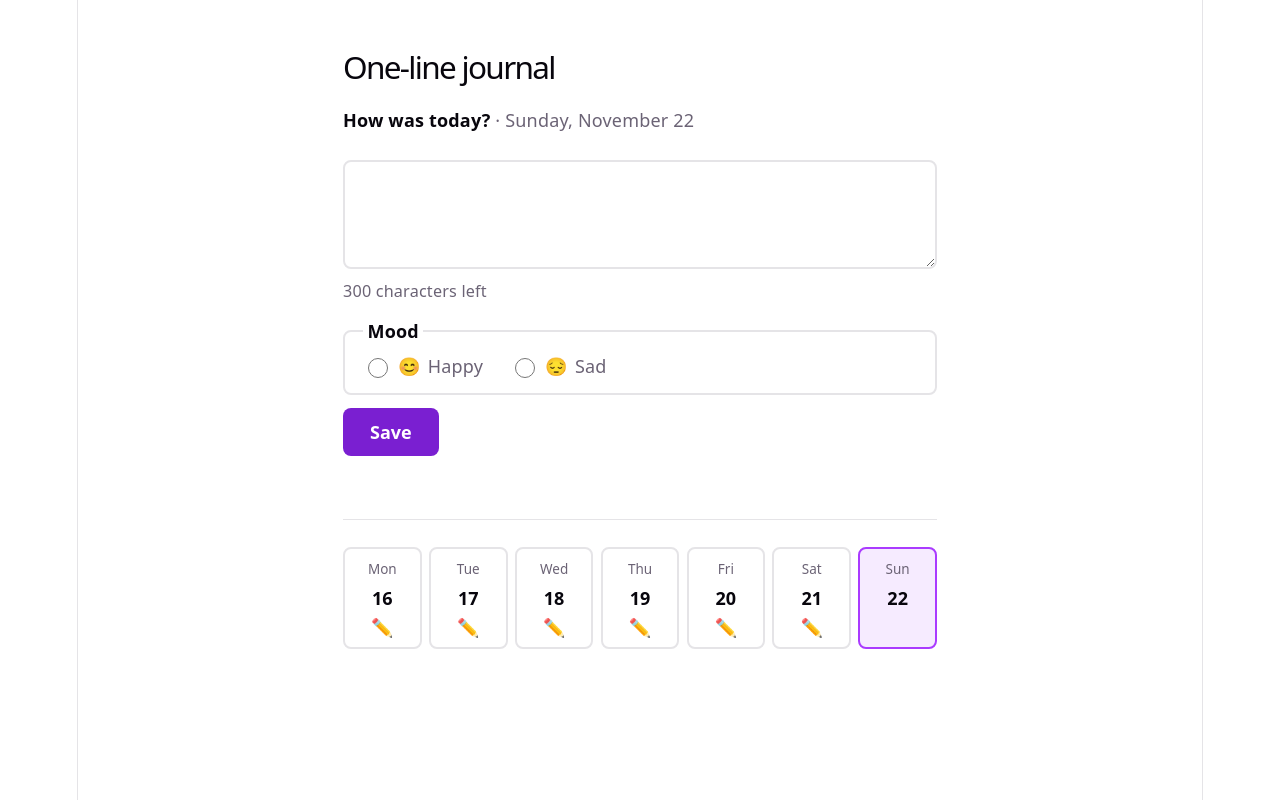
Test: day change when returning to the tab › switches to the new day, clears the unsaved draft, and shows a note
Type "unsaved Sunday thought" into the text box labelled "How was today? Sunday, November 22" at (640, 215), box [343,160,937,270]
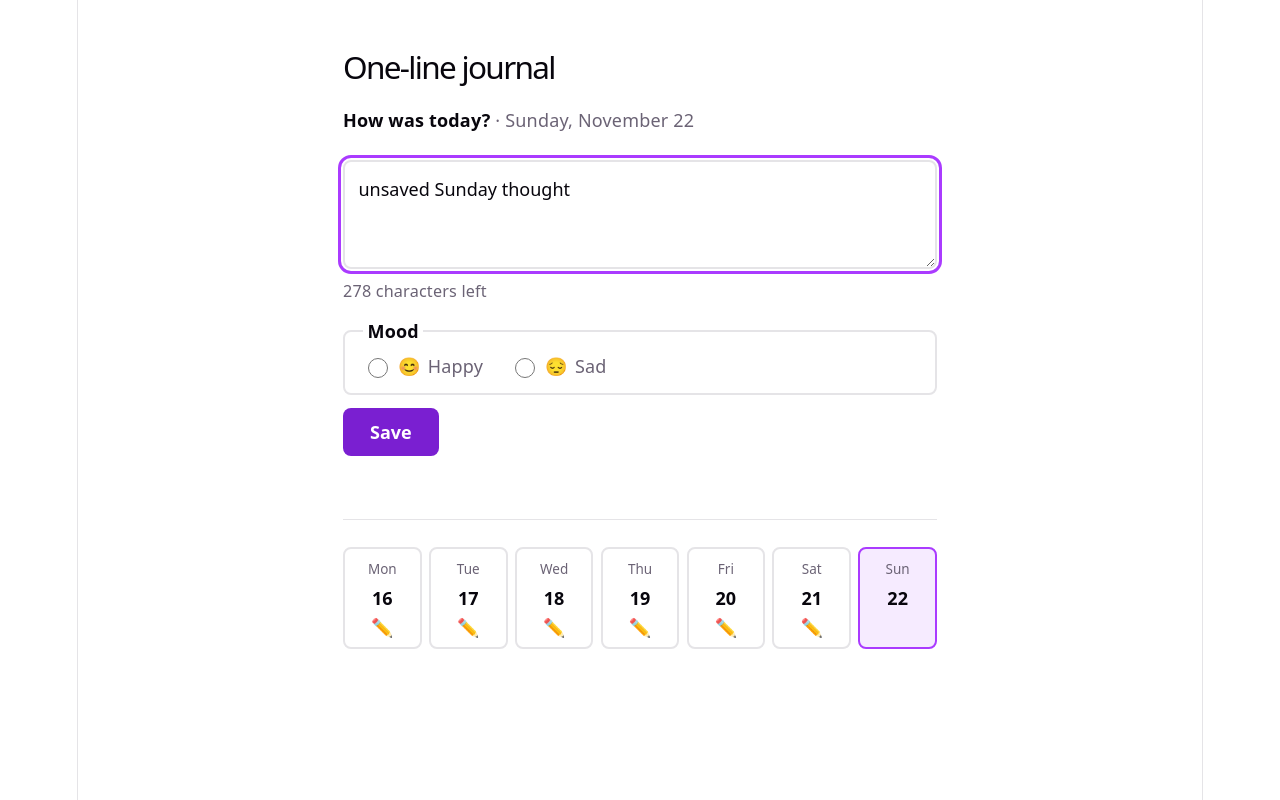
Click the radio button labelled "Happy" at (378, 368), box [368,358,388,378]
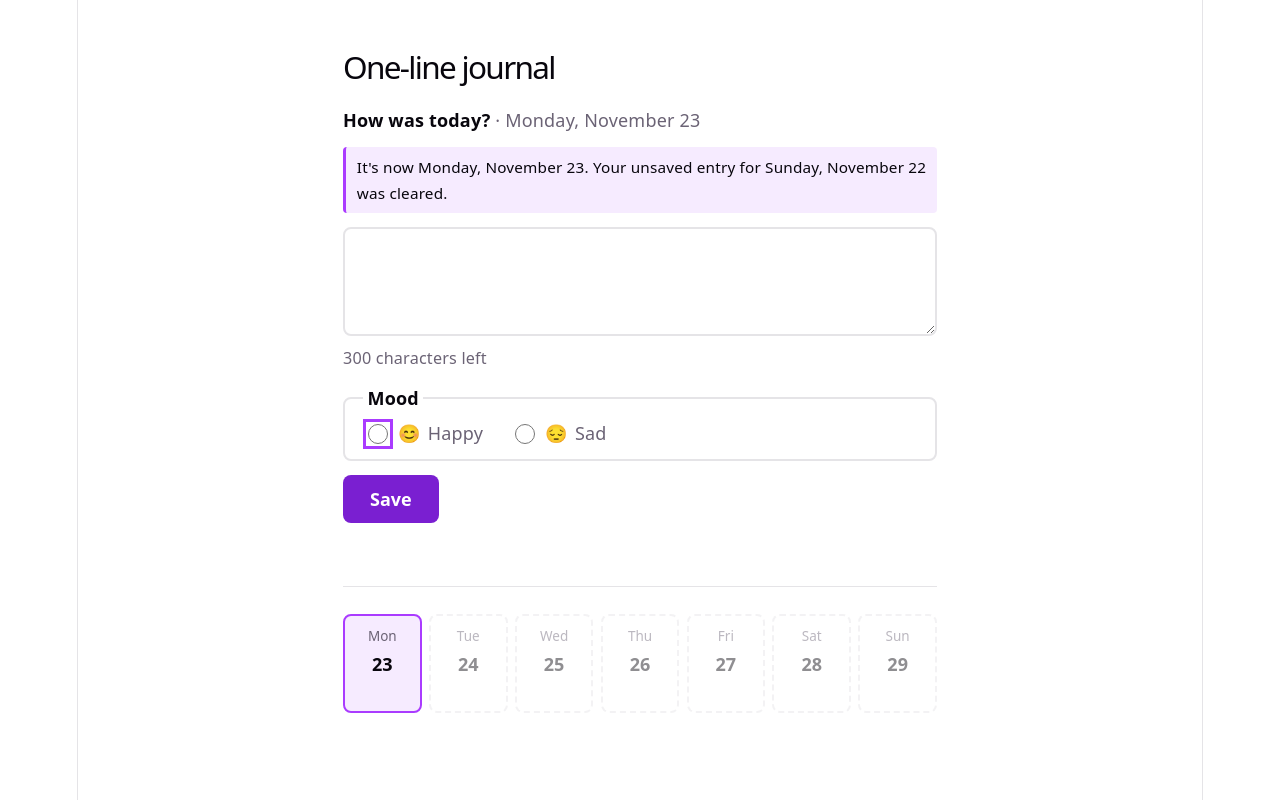
Expected: the radio button labelled "Happy" is not checked, [368,424,388,444]
Expected: the text box labelled "How was today? Monday, November 23" is empty, [343,227,937,336]
Expected: the text "It's now Monday, November 23. Your unsaved entry for Sunday, November 22 was cleared." is shown, [357,157,926,203]
